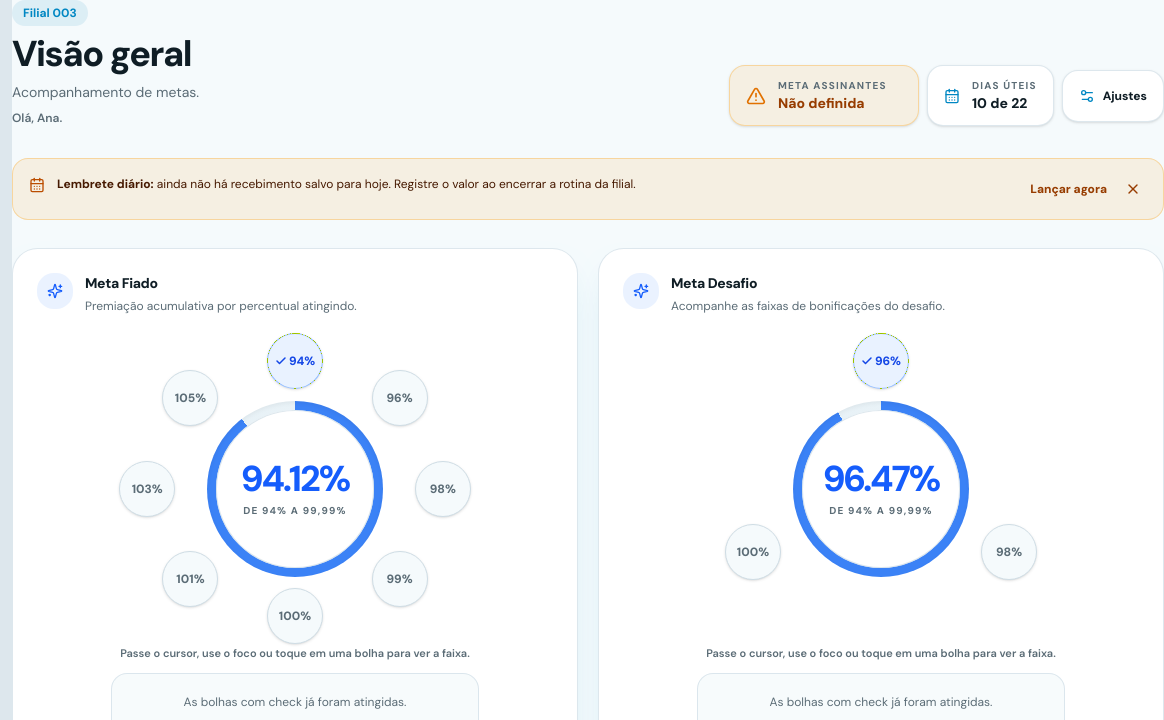
Test: lembrete diário da Visão Geral › permite fechar o lembrete diário sem alterar o acesso aos cards
Expected: the text "Lembrete diário:" is shown, [57, 176, 154, 192]
Step 1. Click the button named "Fechar lembrete diário" → (1133, 189), box [1119, 175, 1147, 203]
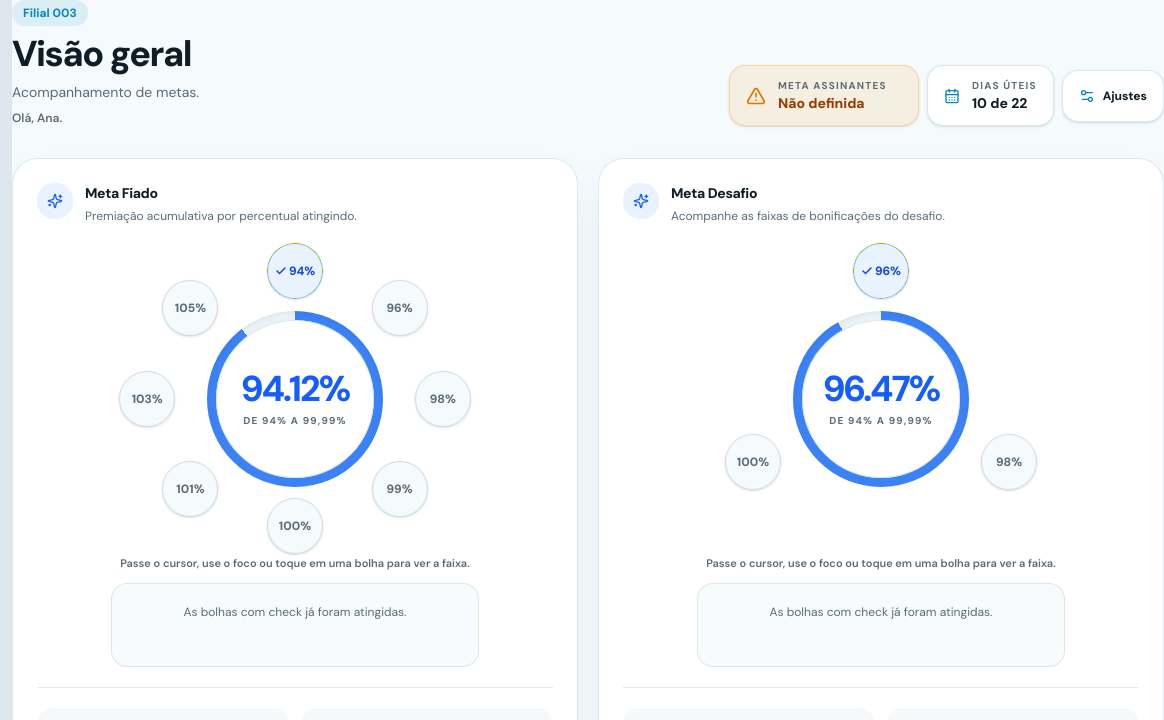
Expected: the text "Meta Fiado" is shown, [85, 184, 158, 202]
Expected: the text "Lembrete diário" is gone
